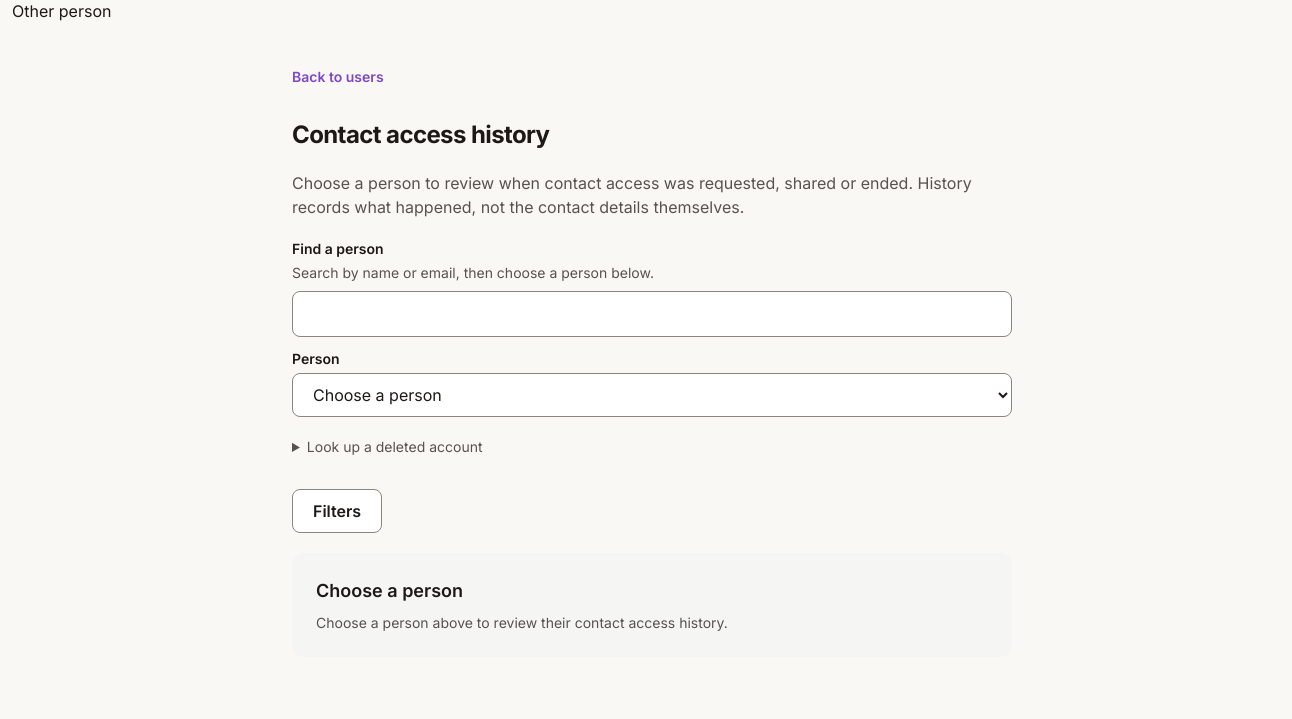
Test: supports manual deleted IDs and neutral empty history without a live user lookup
Expected: the text "Choose a person" is shown, [316, 580, 463, 601]
Click the heading "Look up a deleted account" at (395, 446), box [307, 438, 482, 455]
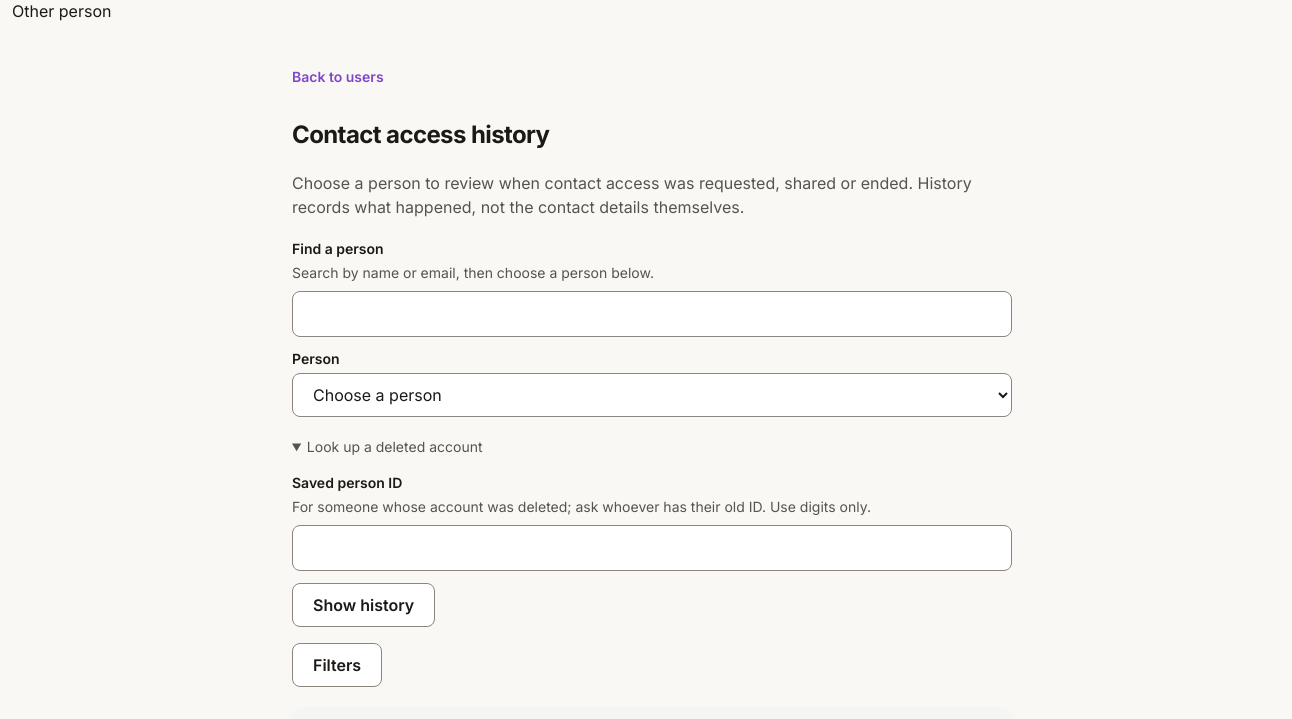
Type "9223372036854775807" into the field labelled "Saved person ID" at (652, 548), box [292, 525, 1012, 571]
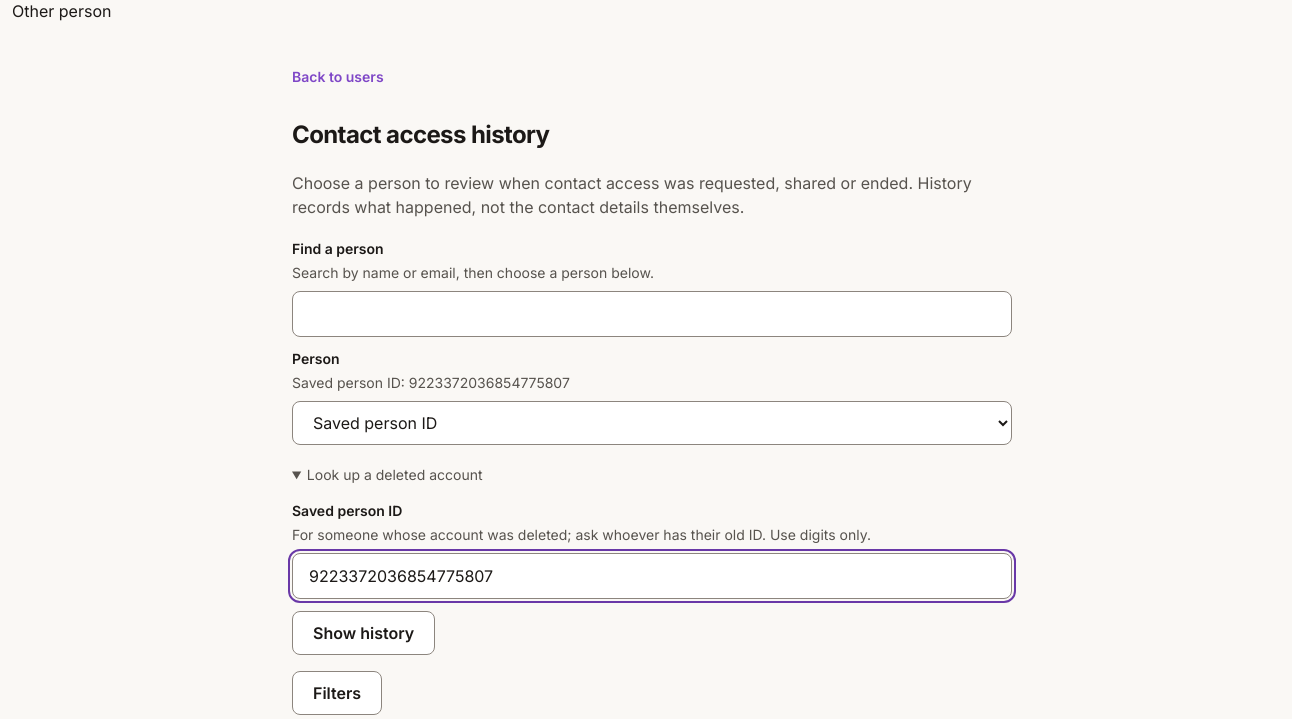
Click the button "Show history" at (364, 633), box [292, 611, 435, 655]
(page scrolled)
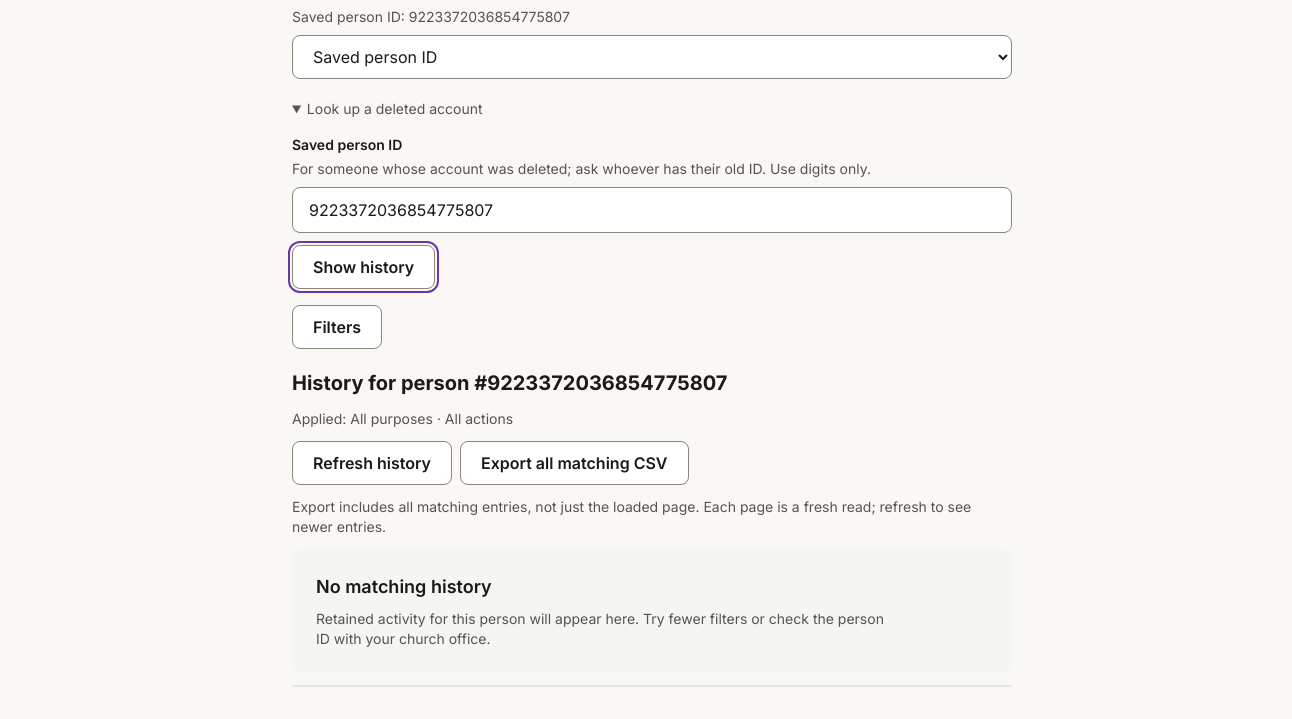
Result: the text "No matching history" is shown at [316, 576, 492, 597]
Result: the button "Export all matching CSV" is enabled at [460, 441, 688, 485]
